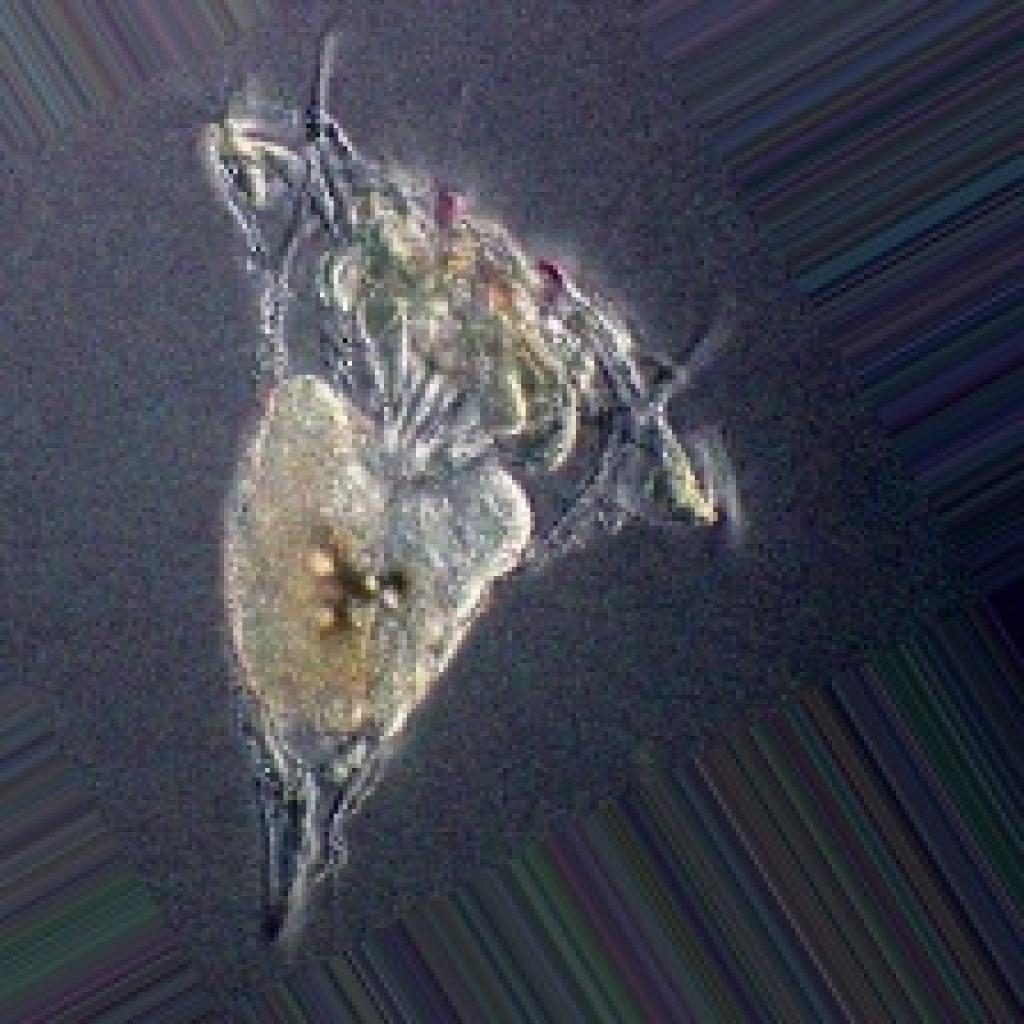Rotifer: (92, 80, 818, 976)
